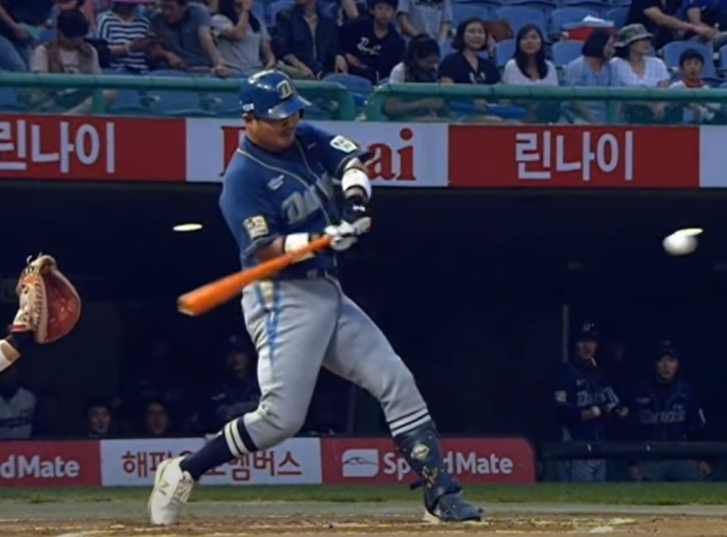ball: (663, 231, 696, 256)
